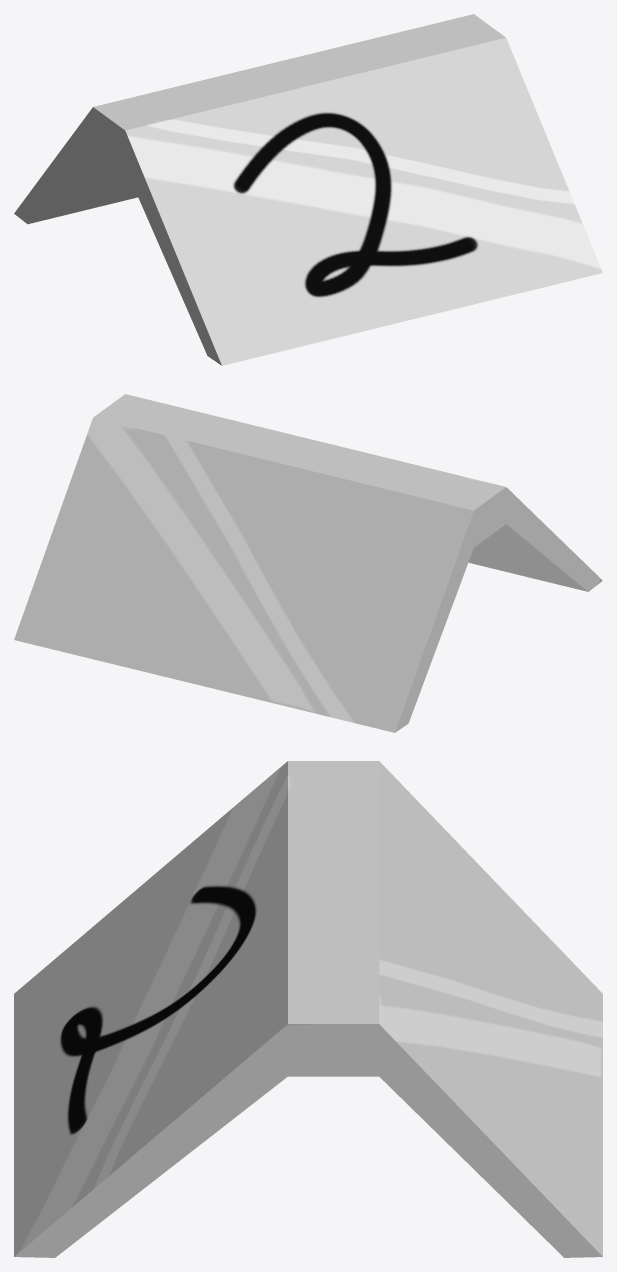
File: MFC number card 2.fbx
3 views of the same model, one above another, from view 1: azimuth 30°, elevation 25°; view 2: azimuth 150°, elevation 25°; view 3: azimuth 270°, elevation 25° (orthographic). The views are drawn at different scales.
Parts seen in each view (by area): view 1: Cube; view 2: Cube; view 3: Cube.
Part boxes in pixels (x1,y1,x2,y2): Cube: (14,14,602,365); Cube: (14,394,602,732); Cube: (14,761,602,1257).
Bounding box in the file's own units: 104 × 43.05 × 98.27.
